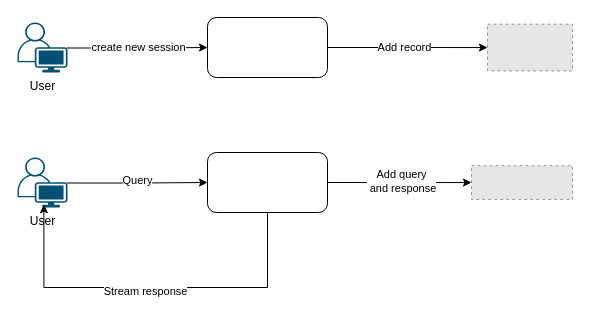
This 590x315 diagram has some shape labels left out. Grey dashed boxes stand in for pictures. Each missing label, with the centre of its shape:
"Chat session handler" goes at (x=267, y=47).
"RAG application" goes at (x=267, y=182).
